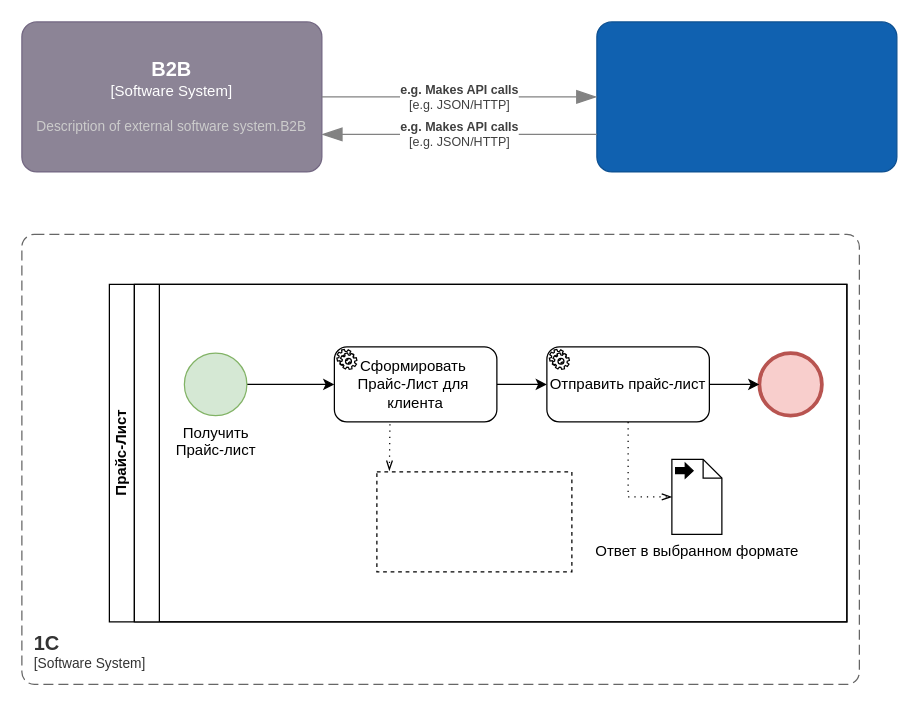
Image size: 919x706. Some labels were removed from this diagram. The box of each missing label's shape, as (x1, y1, x2, y2) in pixels:
1C [Software System] Description of software system.: (596, 21, 897, 172)
HTTP-сервис: (133, 283, 847, 622)
Параметры запроса ID Клиента Дата Формат: (376, 471, 572, 572)
